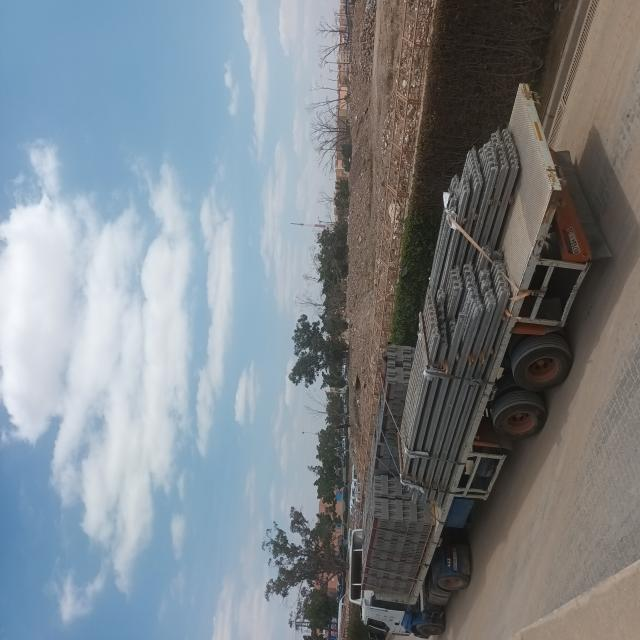bricks: (361, 344, 431, 603)
